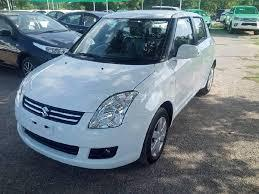Hatchback: (13, 13, 220, 172), (0, 11, 81, 79), (222, 5, 259, 34)
